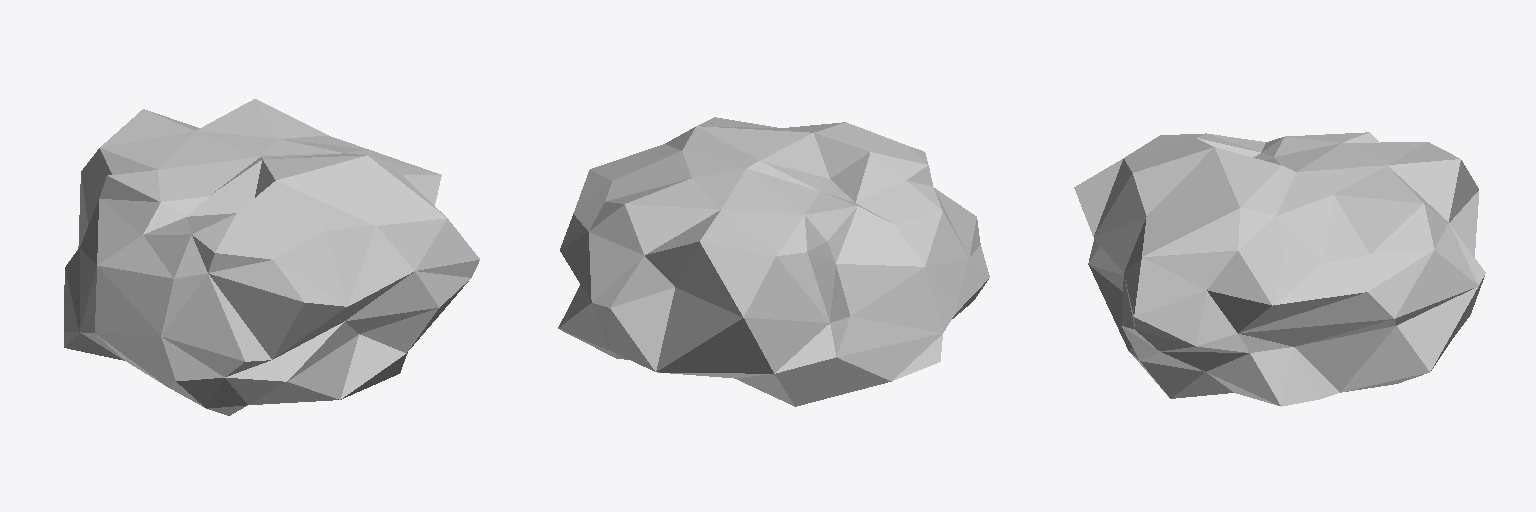
Rendered from rock_new.obj.
3 renders of one model, left to right at view 1: azimuth 30°, elevation 25°; view 2: azimuth 150°, elevation 25°; view 3: azimuth 270°, elevation 25°, orthographic.
Parts seen in each view (by area): view 1: Cube.001; view 2: Cube.001; view 3: Cube.001.
Boxes of the visible parts, x1,y1,x2,y2 form: Cube.001: [64, 99, 479, 415]; Cube.001: [558, 117, 989, 406]; Cube.001: [1074, 132, 1485, 406].
Size of the model in its own units: 3.57 by 1.92 by 3.5.